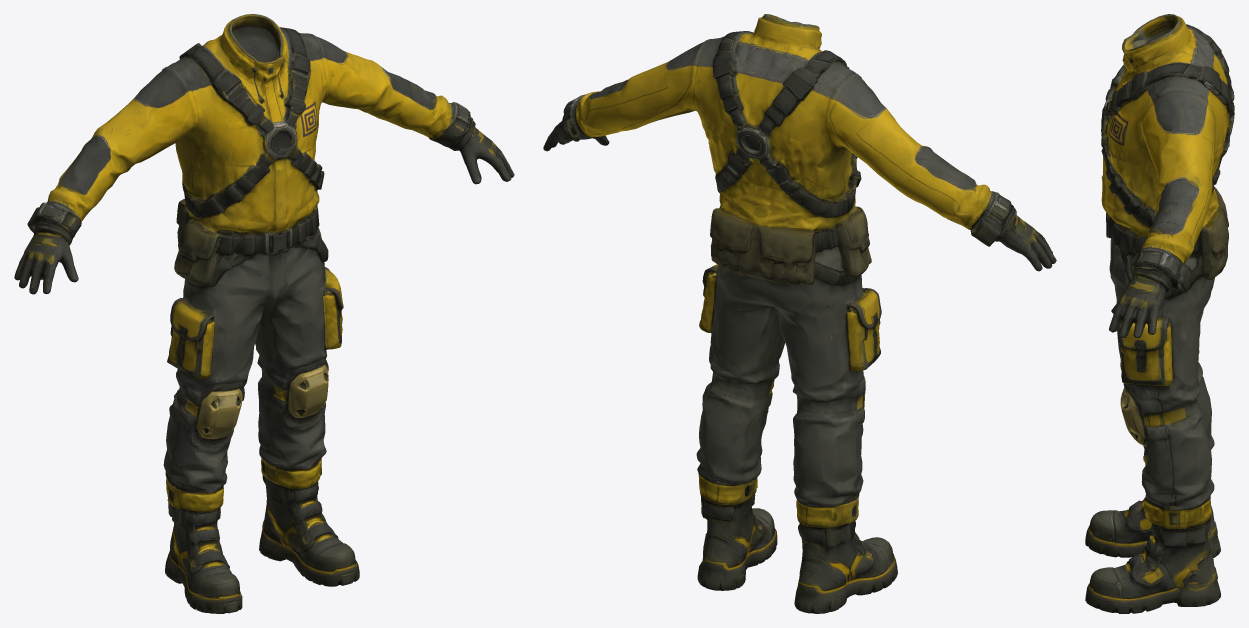
File: Meshy_AI_Yellow_Sentinel_Armor_0611030055_texture.fbx
3 renders of one model, left to right at view 1: azimuth 30°, elevation 25°; view 2: azimuth 150°, elevation 25°; view 3: azimuth 270°, elevation 25°, orthographic. The views are drawn at different scales.
Parts seen in each view (by area): view 1: Mesh_0; view 2: Mesh_0; view 3: Mesh_0.
Part boxes in pixels (x1=…): Mesh_0: x1=14, y1=14, x2=514, y2=613; Mesh_0: x1=543, y1=14, x2=1056, y2=613; Mesh_0: x1=1085, y1=14, x2=1234, y2=613.
Bounding box in the file's own units: 177 × 191 × 46.51.
1 material, 1 textured.
